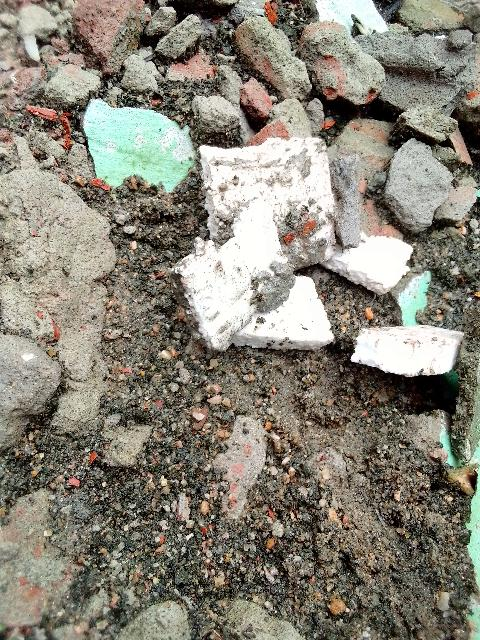cocksheet: (167, 120, 467, 404)
